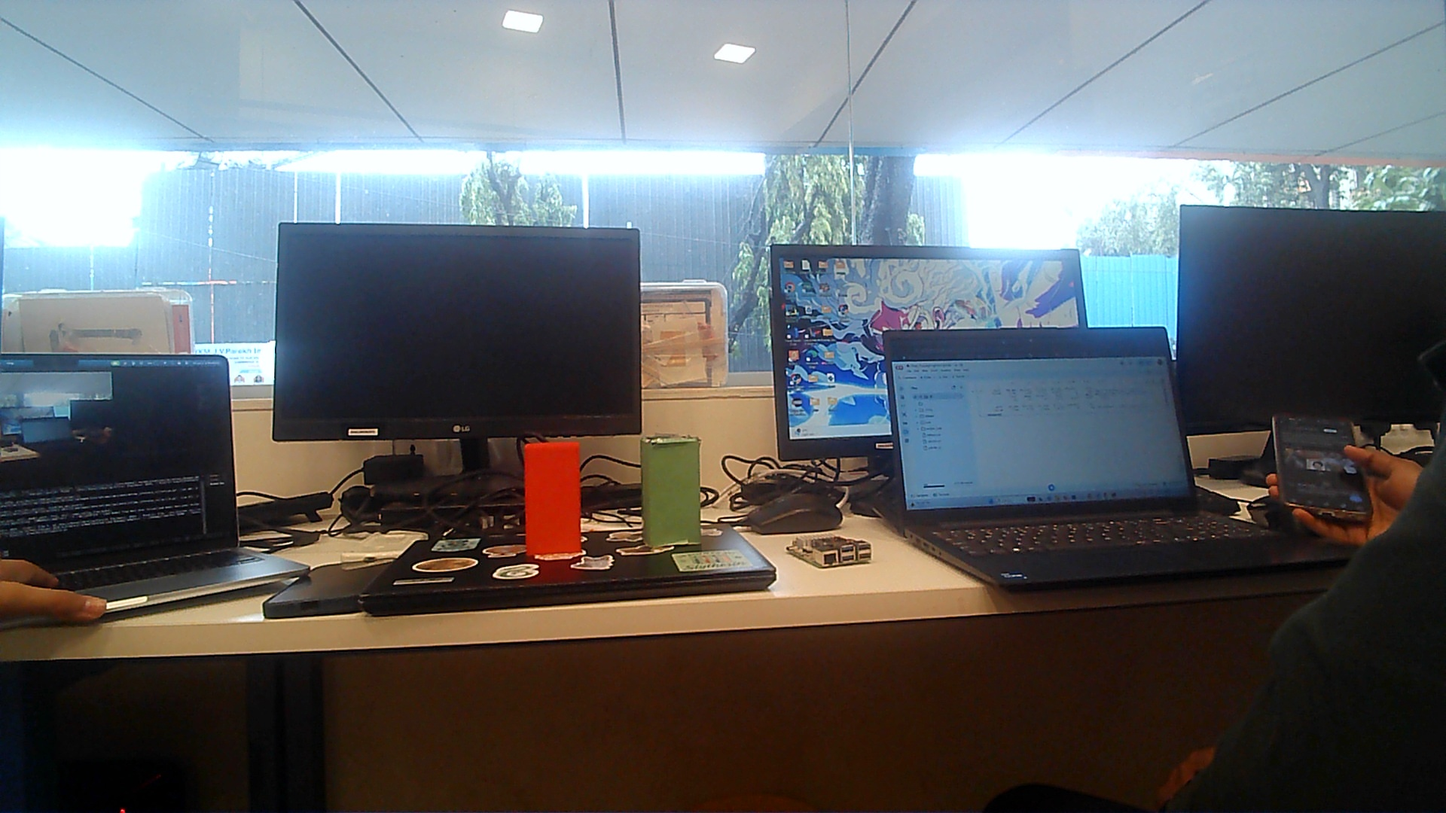green: (642, 439, 697, 542)
